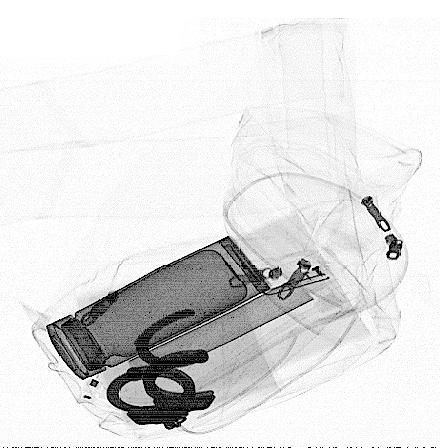HandCuffs: (106, 307, 217, 431)
